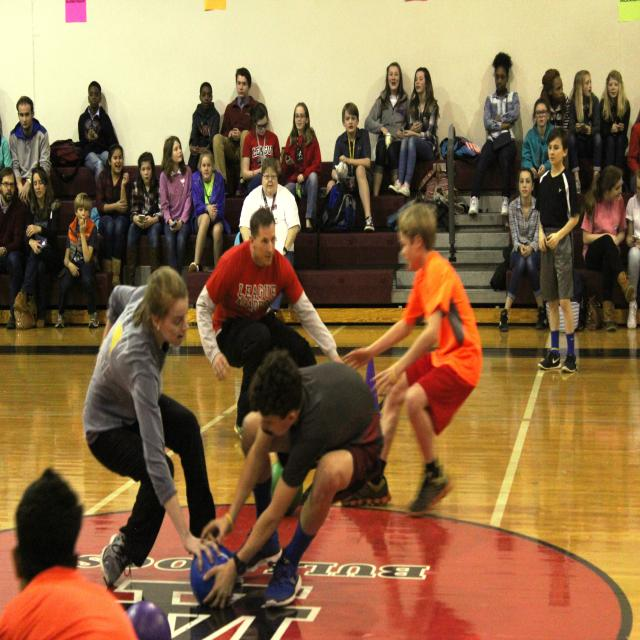body: (336, 200, 485, 520), (200, 352, 386, 608), (81, 264, 222, 590), (498, 341, 634, 611), (195, 208, 345, 444), (0, 464, 141, 639), (342, 510, 472, 640), (532, 125, 582, 374), (0, 336, 86, 464), (238, 156, 302, 314), (580, 164, 636, 332), (467, 51, 522, 218), (498, 165, 550, 333), (12, 165, 62, 329), (387, 66, 440, 199), (326, 102, 376, 233), (54, 191, 101, 330), (212, 66, 261, 198), (364, 62, 411, 197), (280, 101, 323, 235), (188, 147, 232, 272), (125, 152, 165, 287), (8, 95, 52, 208), (96, 143, 130, 289), (159, 135, 193, 276), (77, 80, 120, 188), (567, 70, 603, 196), (0, 166, 27, 331), (241, 102, 282, 194), (521, 97, 556, 199), (599, 70, 631, 174), (187, 80, 221, 176), (625, 168, 640, 329), (539, 68, 571, 131), (627, 109, 640, 194), (0, 115, 12, 170)
